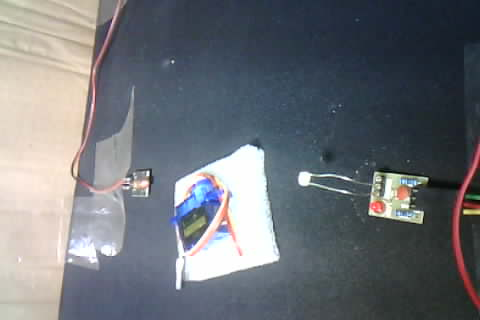motor: (167, 148, 243, 282)
